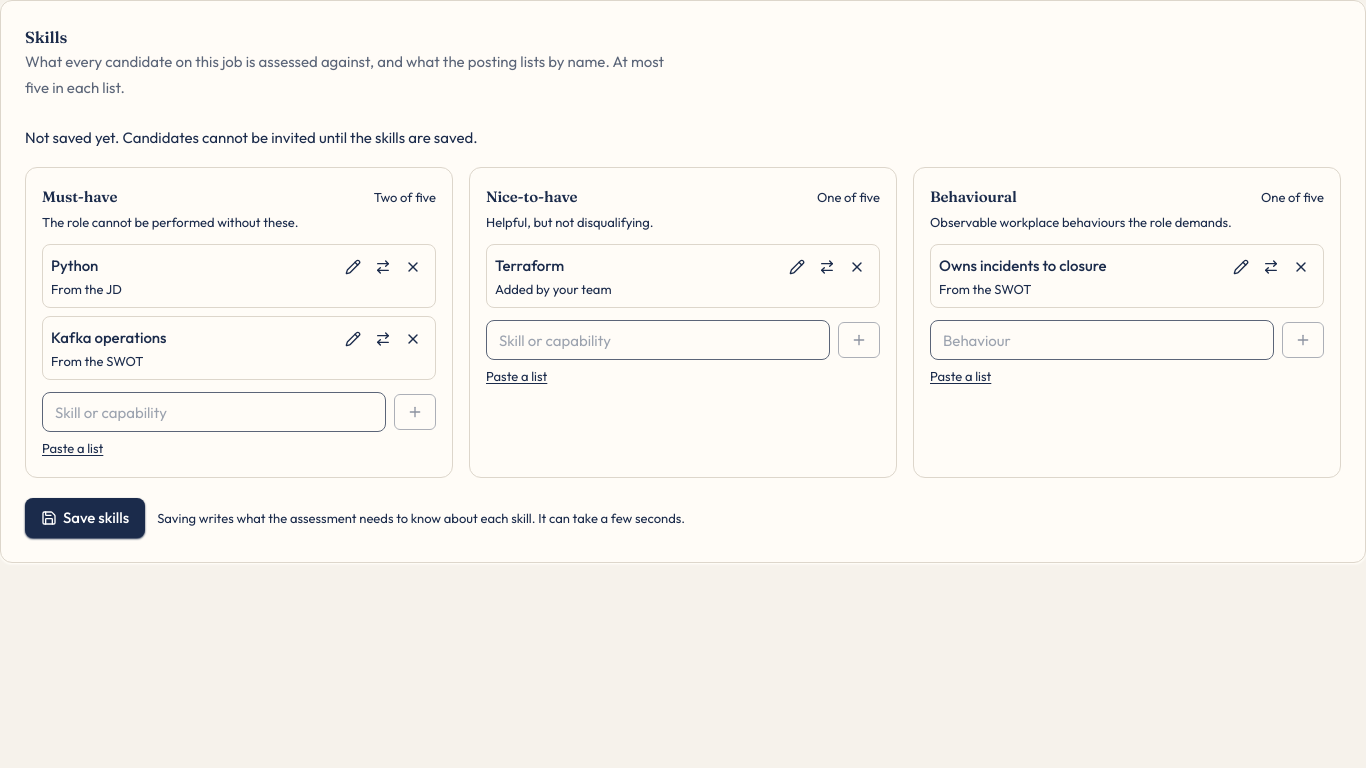
Test: a user who may edit every bucket › shows an outage on save as the server's try-again sentence, naming no skill
The width and height of the screenshot is (1366, 768).
expect the text "Python" is shown: met, box [51, 256, 98, 275]
Click the button "Save skills" at (85, 518), box [25, 498, 145, 538]
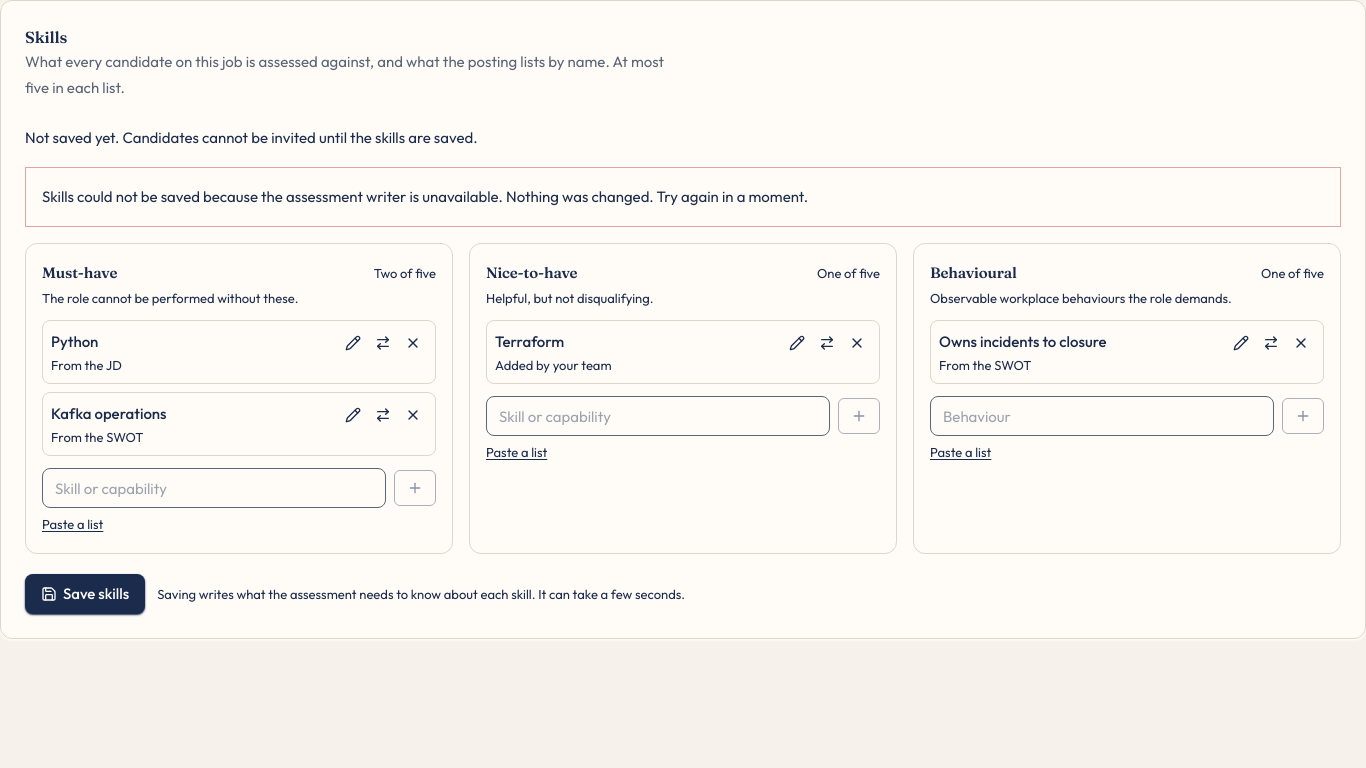
expect the 2nd message shows "Skills could not be saved because the assessment writer is unavailable. Nothing was changed. Try again in a moment.": met, box [42, 187, 808, 206]
